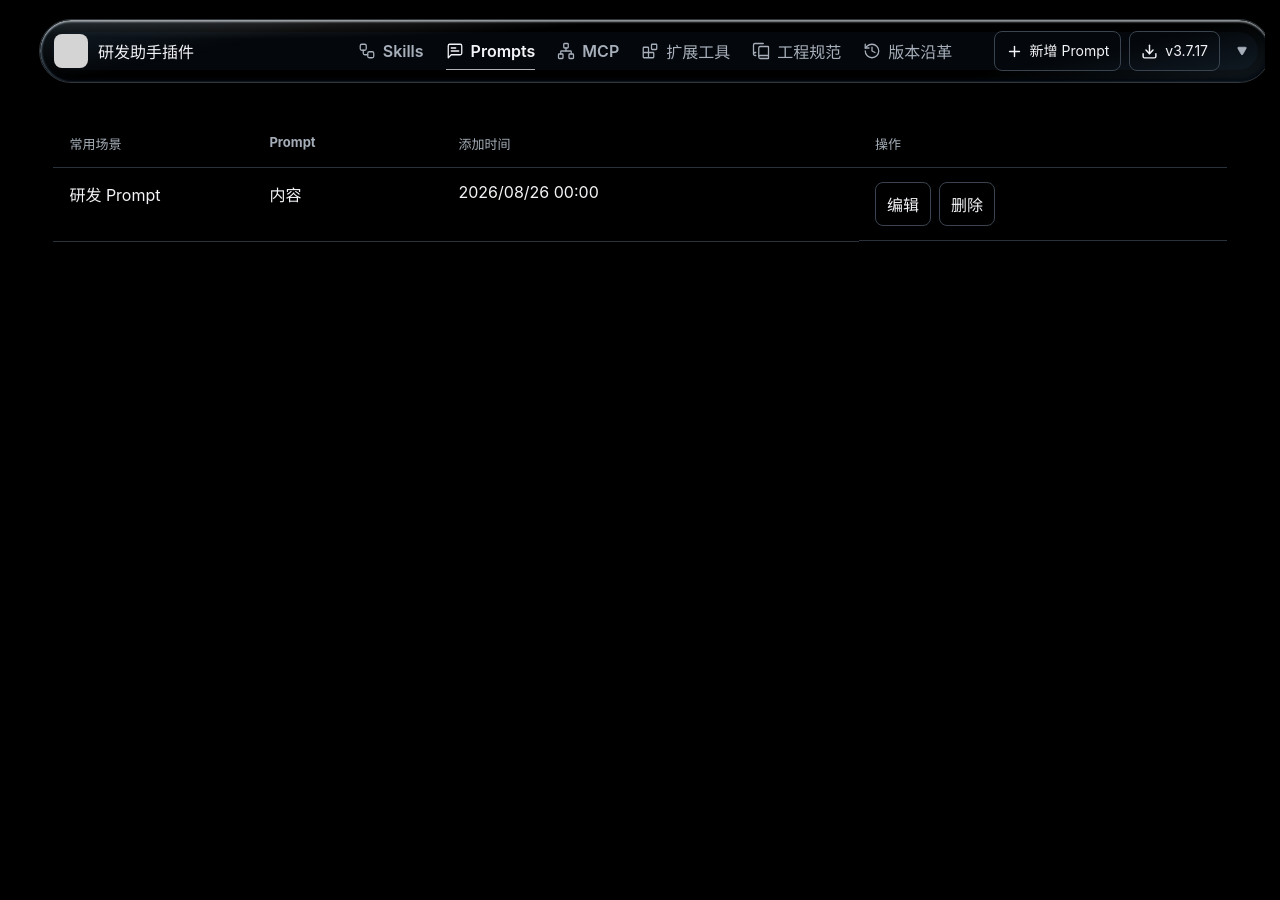
Scenario: PortalShell › shows only the download version and opens theme settings from the trailing triangle
Expected: the link named "下载最新版 v3.7.17" reads "v3.7.17", [1129,31,1220,71]
Click the button named "外观设置" at (1242,51), box [1228,31,1256,71]
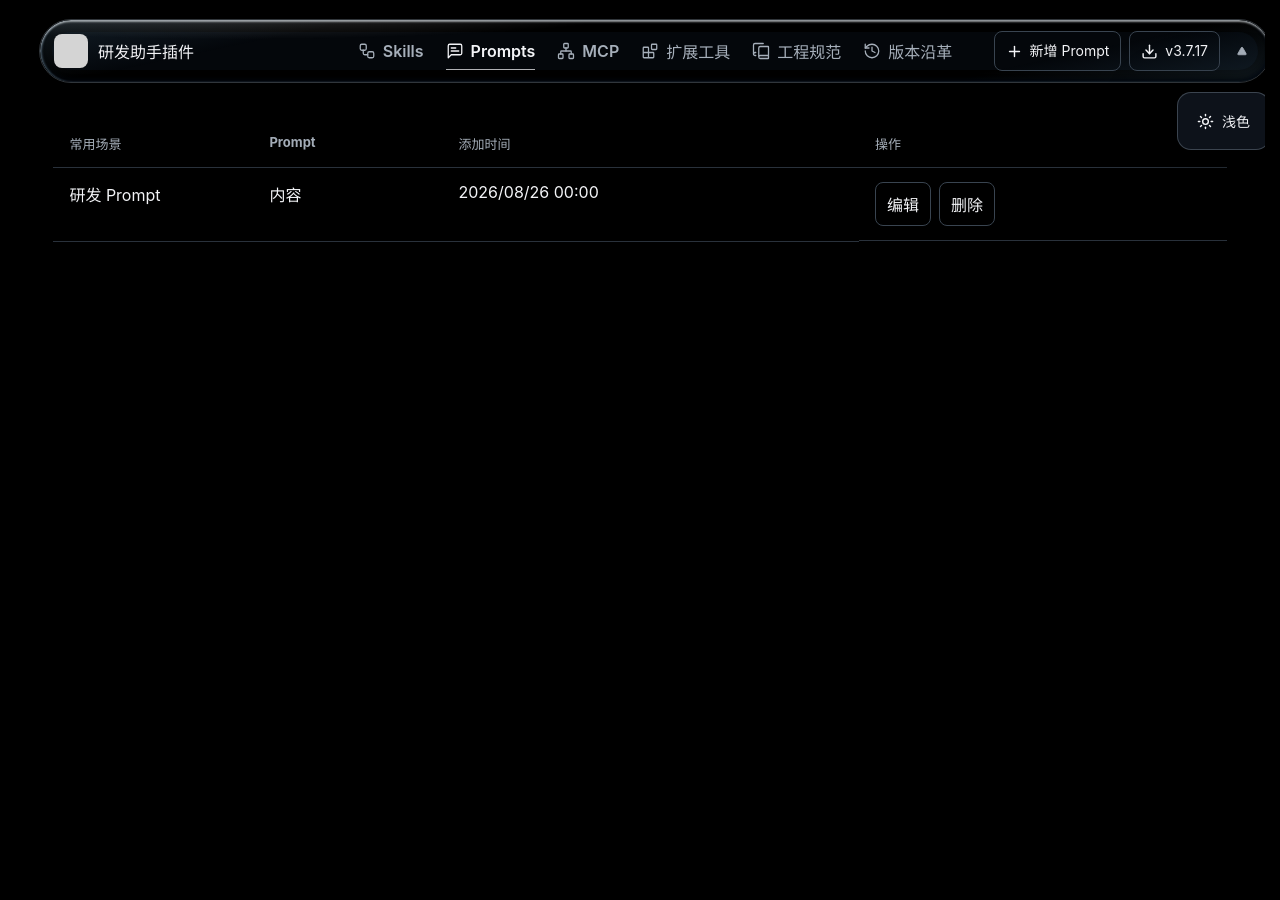
Click the button with aria-label "切换为浅色" at (1224,121), box [1186,101,1261,141]
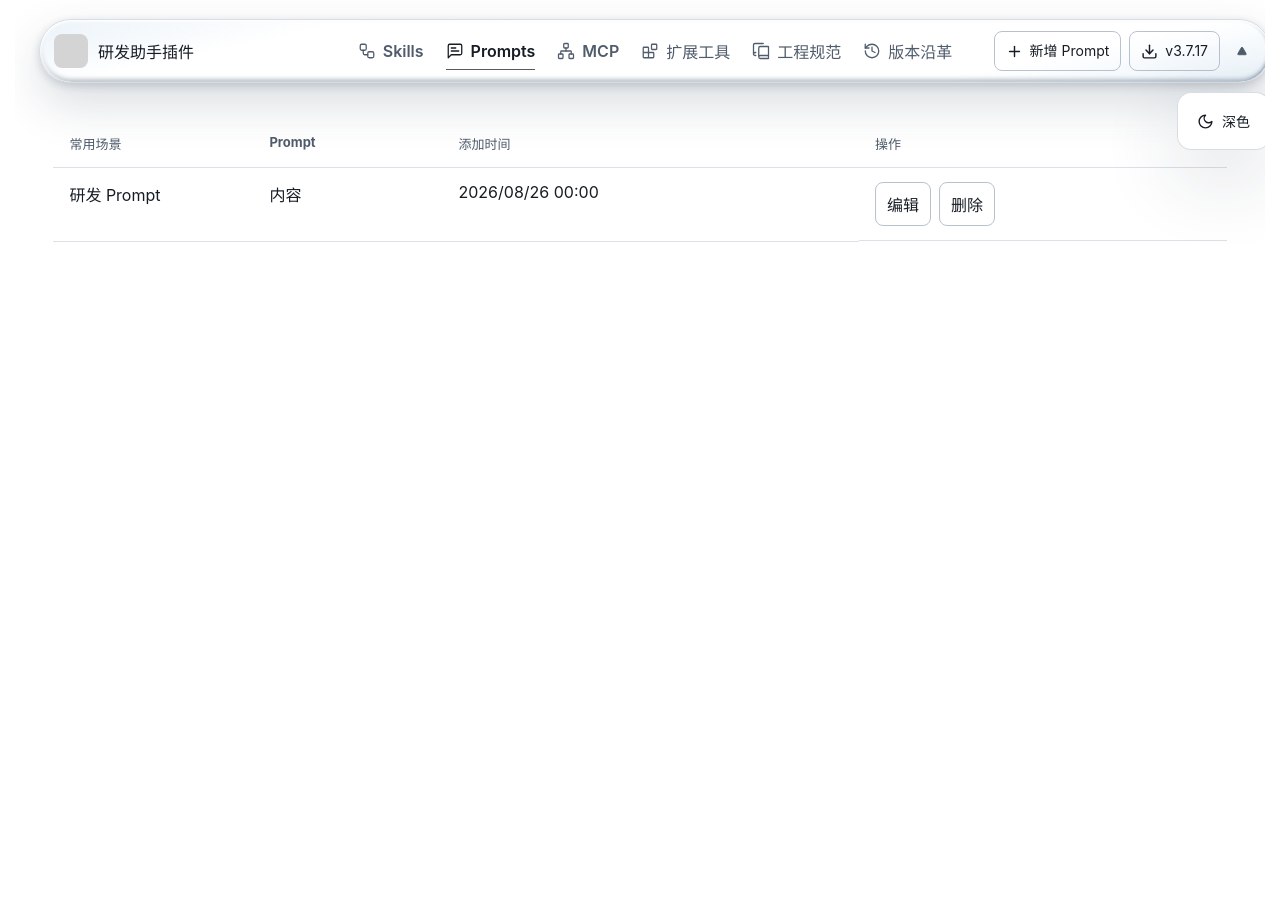
Press Escape
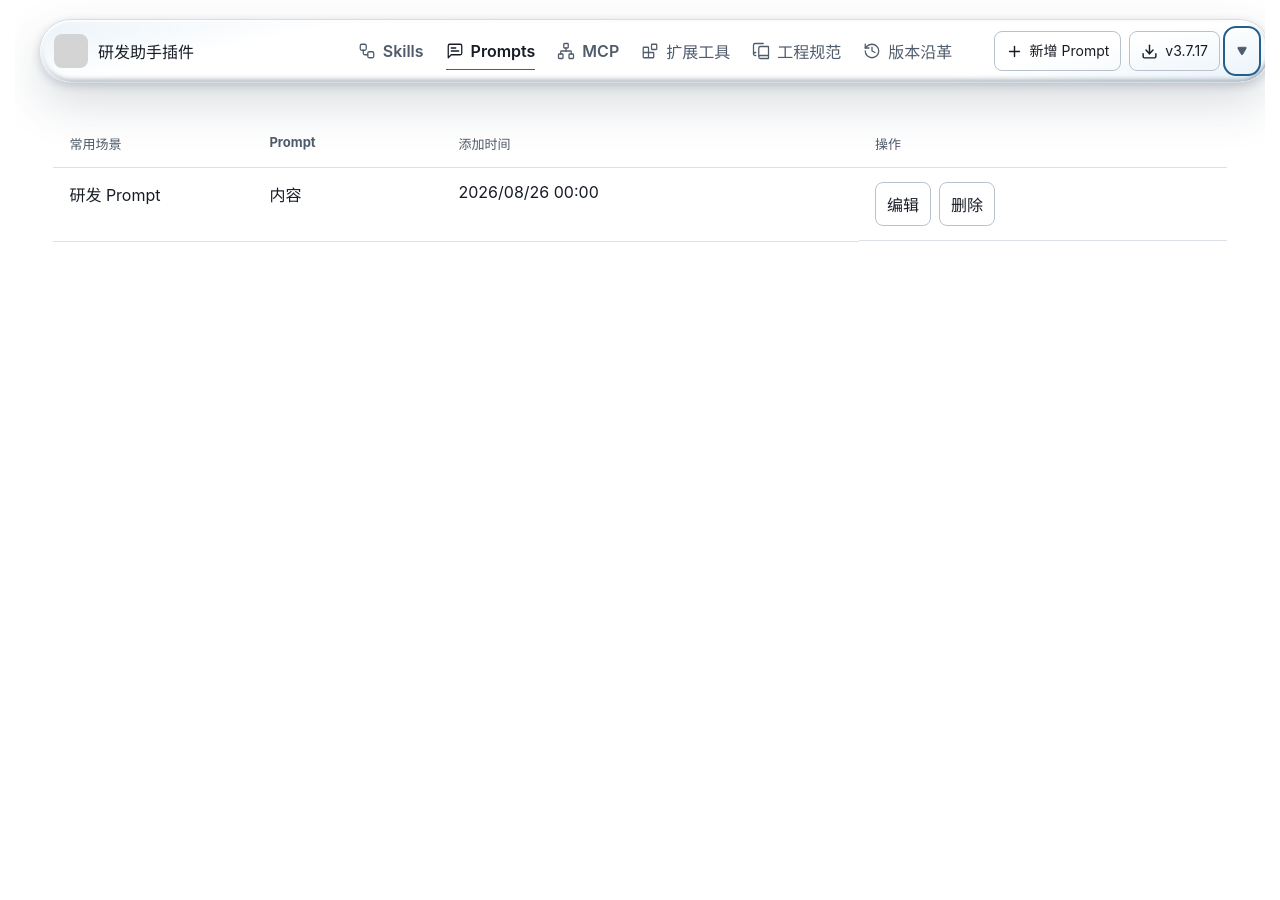
Expected: the button named "外观设置" is collapsed
Click the button named "外观设置" at (1242,51), box [1228,31,1256,71]
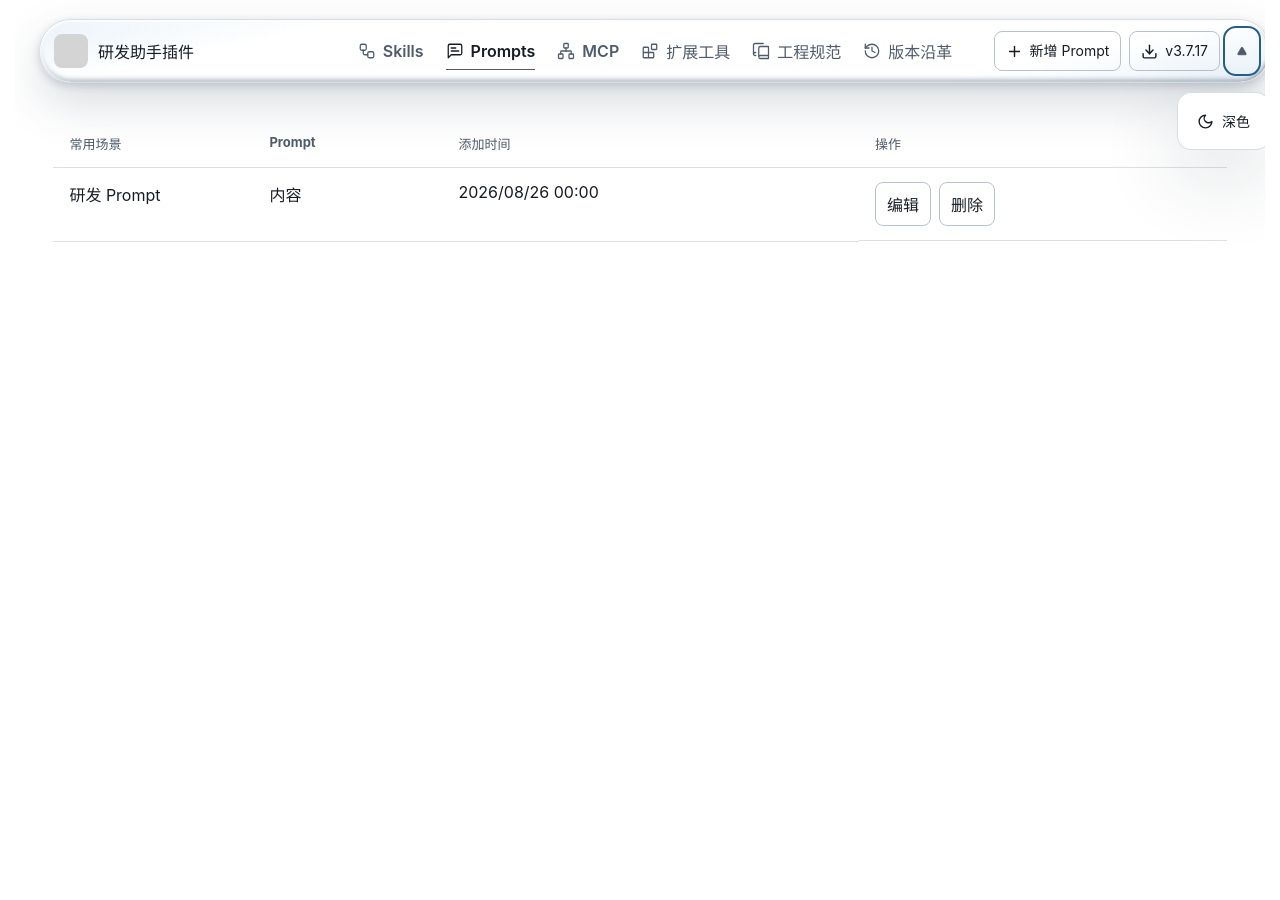
Press the mouse on the element that starts with "研发助手插件" at (640,450), box [15,0,1265,899]
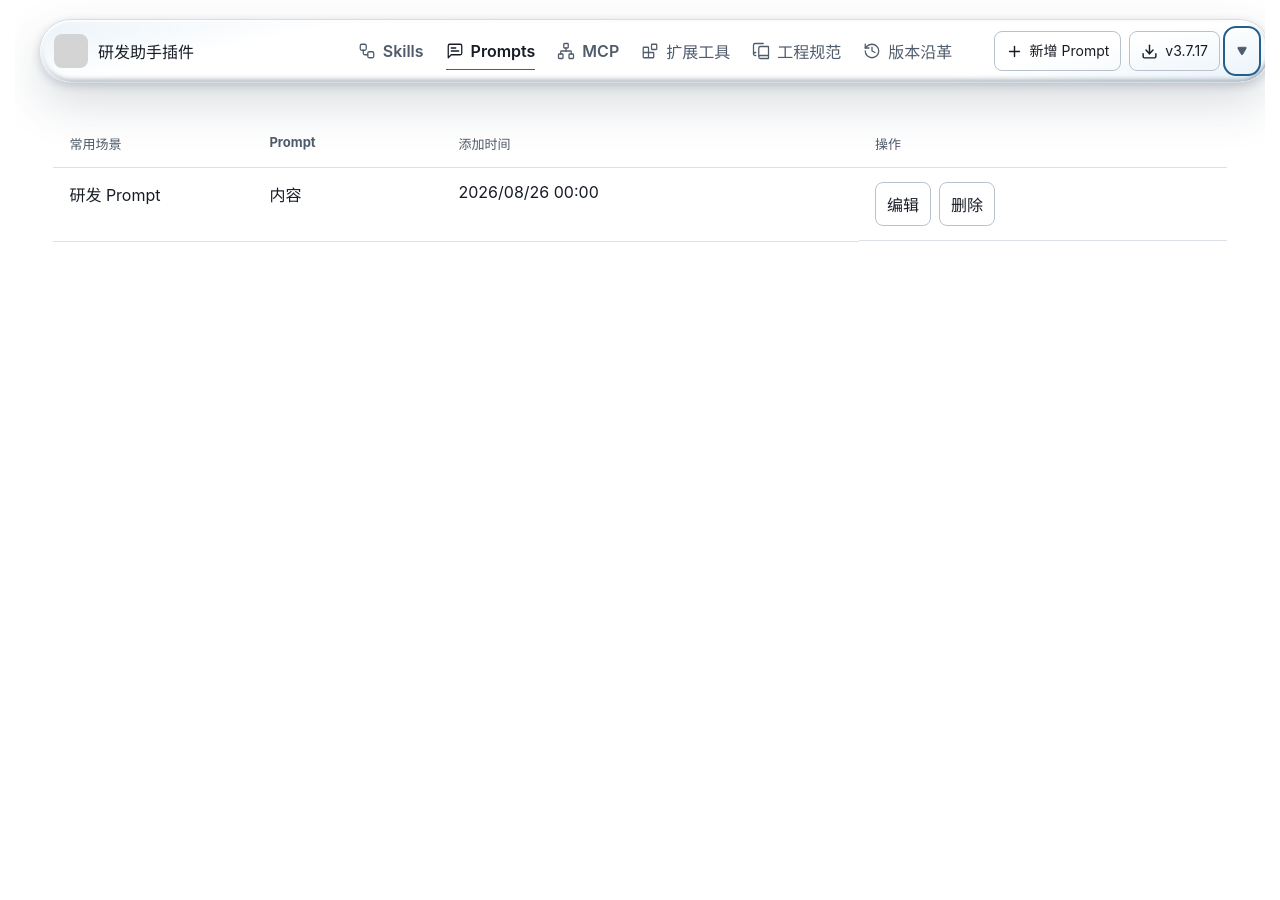
Expected: the button named "外观设置" is collapsed, [1228,31,1256,71]
